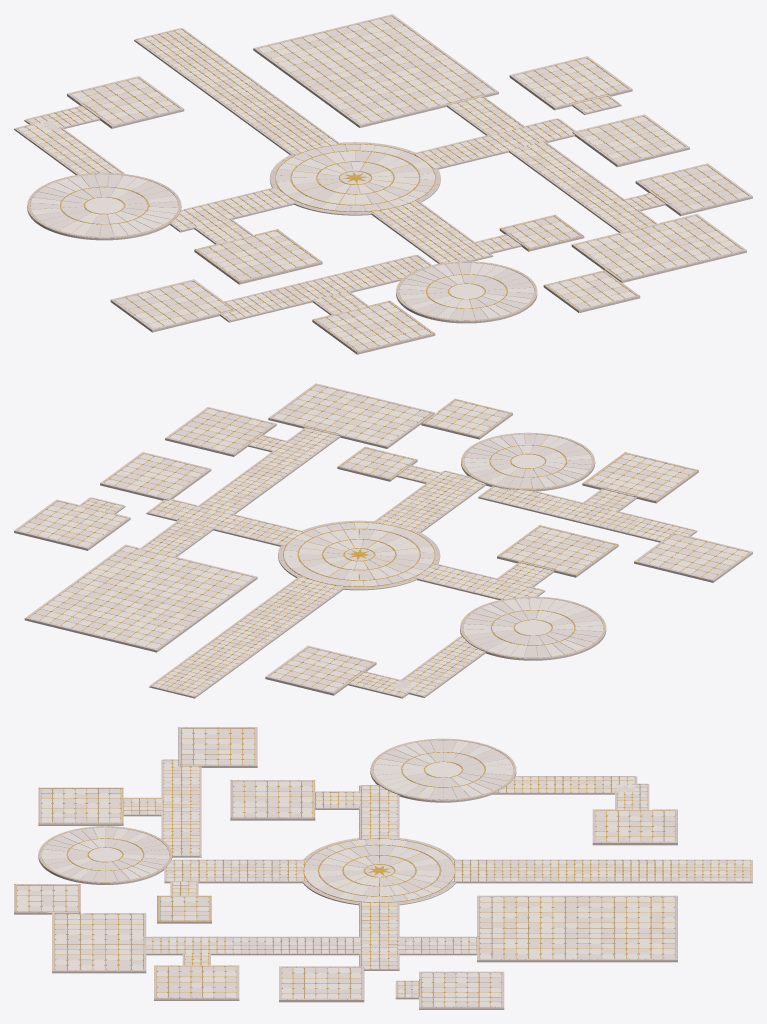
File: Sol_P4.fbx
The picture shows the model from 3 angles, top to bottom: view 1: azimuth 30°, elevation 25°; view 2: azimuth 150°, elevation 25°; view 3: azimuth 270°, elevation 25°; orthographic projection. The views are drawn at different scales.
Visible parts, largest first — view 1: Socle_Quartier_Artisanal_QuartzA, Socle_Quartier_Artisanal_QuartzB, Place_Centrale_QuartzB, Place_Centrale_QuartzA, Socle_Faille_QuartzB, Avenue_Sud_QuartzB, Socle_Invocation_QuartzB, Socle_Faille_QuartzA, Avenue_Sud_QuartzA, Socle_Quartier_Artisanal_Or, Socle_Entrainement_QuartzA, Socle_Entrainement_QuartzB (+68 smaller); view 2: Socle_Quartier_Artisanal_QuartzA, Socle_Quartier_Artisanal_QuartzB, Place_Centrale_QuartzB, Place_Centrale_QuartzA, Socle_Faille_QuartzB, Avenue_Sud_QuartzB, Socle_Invocation_QuartzB, Socle_Faille_QuartzA, Avenue_Sud_QuartzA, Socle_Quartier_Artisanal_Or, Socle_Entrainement_QuartzA, Socle_Entrainement_QuartzB (+68 smaller); view 3: Socle_Quartier_Artisanal_QuartzA, Socle_Quartier_Artisanal_QuartzB, Place_Centrale_QuartzB, Place_Centrale_QuartzA, Socle_Faille_QuartzB, Avenue_Sud_QuartzB, Socle_Invocation_QuartzB, Socle_Faille_QuartzA, Avenue_Sud_QuartzA, Socle_Entrainement_QuartzA, Socle_Quartier_Artisanal_Or, Socle_Quartier_Artisanal_Bord (+74 smaller).
Boxes of the visible parts, x1,y1,x2,y2 form: Socle_Quartier_Artisanal_QuartzA: [258, 19, 493, 123]; Socle_Quartier_Artisanal_QuartzB: [265, 16, 487, 118]; Place_Centrale_QuartzB: [276, 144, 434, 211]; Place_Centrale_QuartzA: [276, 144, 434, 210]; Socle_Faille_QuartzB: [30, 174, 178, 236]; Avenue_Sud_QuartzB: [146, 31, 331, 154]; Socle_Invocation_QuartzB: [399, 263, 533, 319]; Socle_Faille_QuartzA: [30, 175, 177, 236]; Avenue_Sud_QuartzA: [138, 29, 338, 155]; Socle_Quartier_Artisanal_Or: [258, 16, 494, 121]; Socle_Entrainement_QuartzA: [577, 216, 734, 276]; Socle_Entrainement_QuartzB: [594, 218, 741, 278]; Socle_Quartier_Artisanal_QuartzA: [40, 546, 252, 648]; Socle_Quartier_Artisanal_QuartzB: [29, 549, 240, 644]; Place_Centrale_QuartzB: [284, 522, 434, 585]; Place_Centrale_QuartzA: [283, 522, 434, 586]; Socle_Faille_QuartzB: [464, 601, 602, 657]; Avenue_Sud_QuartzB: [160, 577, 341, 692]; Socle_Invocation_QuartzB: [465, 434, 591, 488]; Socle_Faille_QuartzA: [463, 598, 603, 656]; Avenue_Sud_QuartzA: [153, 576, 343, 695]; Socle_Quartier_Artisanal_Or: [29, 546, 253, 646]; Socle_Entrainement_QuartzA: [273, 388, 423, 444]; Socle_Entrainement_QuartzB: [279, 385, 429, 437]; Socle_Quartier_Artisanal_QuartzA: [480, 897, 674, 958]; Socle_Quartier_Artisanal_QuartzB: [480, 897, 674, 958]; Place_Centrale_QuartzB: [304, 839, 454, 902]; Place_Centrale_QuartzA: [304, 839, 448, 902]; Socle_Faille_QuartzB: [379, 740, 511, 799]; Avenue_Sud_QuartzB: [447, 860, 750, 880]; Socle_Invocation_QuartzB: [43, 827, 169, 881]; Socle_Faille_QuartzA: [373, 740, 513, 798]; Avenue_Sud_QuartzA: [451, 860, 750, 880]; Socle_Entrainement_QuartzA: [55, 914, 143, 969]; Socle_Quartier_Artisanal_Or: [478, 897, 675, 958]; Socle_Quartier_Artisanal_Bord: [477, 895, 677, 962].
Size of the model in its own units: 327 by 1.28 by 364.
